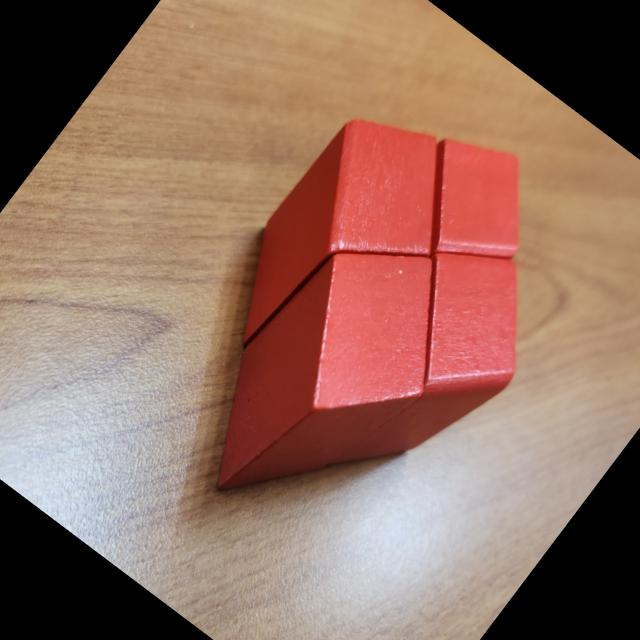red: (165, 200, 492, 556), (200, 86, 491, 402), (292, 221, 568, 524), (379, 113, 565, 300)
